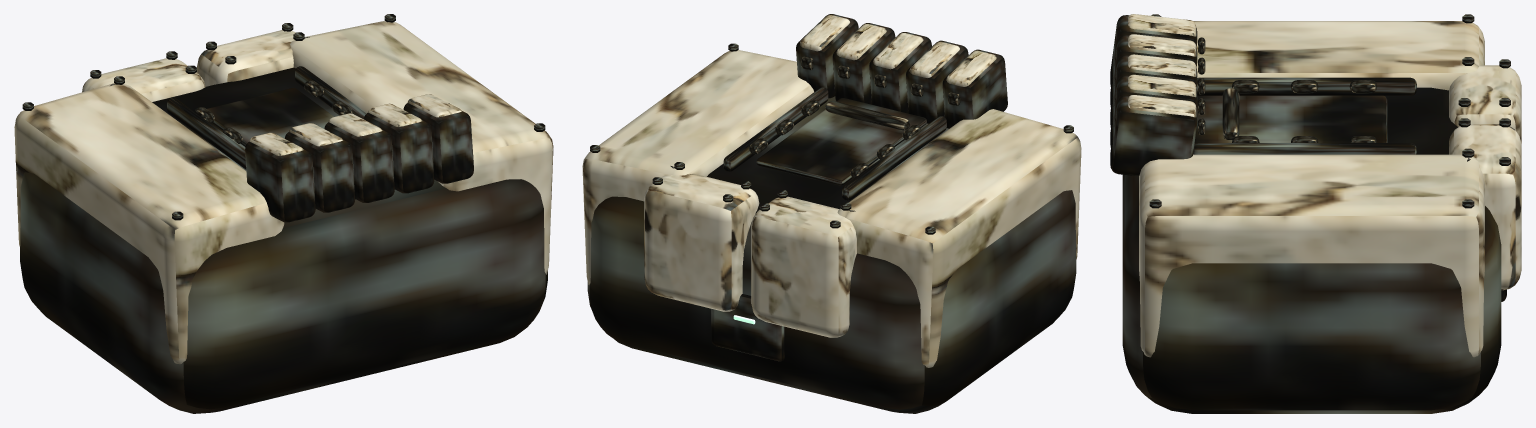
Rendered from body-assembler-astra-v3.glb.
3 renders of one model, left to right at view 1: azimuth 30°, elevation 25°; view 2: azimuth 150°, elevation 25°; view 3: azimuth 270°, elevation 25°, orthographic. The views are drawn at different scales.
Visible parts, largest first — view 1: assembler-steel, assembler-detail-ceramic, assembler-detail-metal, assembler-detail-brass; view 2: assembler-detail-ceramic, assembler-steel, assembler-detail-metal, assembler-detail-brass; view 3: assembler-detail-ceramic, assembler-steel, assembler-detail-metal, assembler-detail-brass.
Boxes of the visible parts, bbox=[...] form: assembler-steel: bbox=[20, 67, 547, 413]; assembler-detail-ceramic: bbox=[14, 21, 553, 364]; assembler-detail-metal: bbox=[22, 14, 545, 222]; assembler-detail-brass: bbox=[194, 80, 352, 143]; assembler-detail-ceramic: bbox=[582, 15, 1081, 367]; assembler-steel: bbox=[587, 96, 1076, 413]; assembler-detail-metal: bbox=[590, 14, 1073, 361]; assembler-detail-brass: bbox=[749, 56, 960, 178]; assembler-detail-ceramic: bbox=[1128, 14, 1521, 357]; assembler-steel: bbox=[1122, 87, 1501, 413]; assembler-detail-metal: bbox=[1110, 14, 1510, 301]; assembler-detail-brass: bbox=[1198, 37, 1377, 142].
Bounding box in the file's own units: 1.3 × 0.8752 × 1.12.
Materials: 5 (4 with a texture image).
